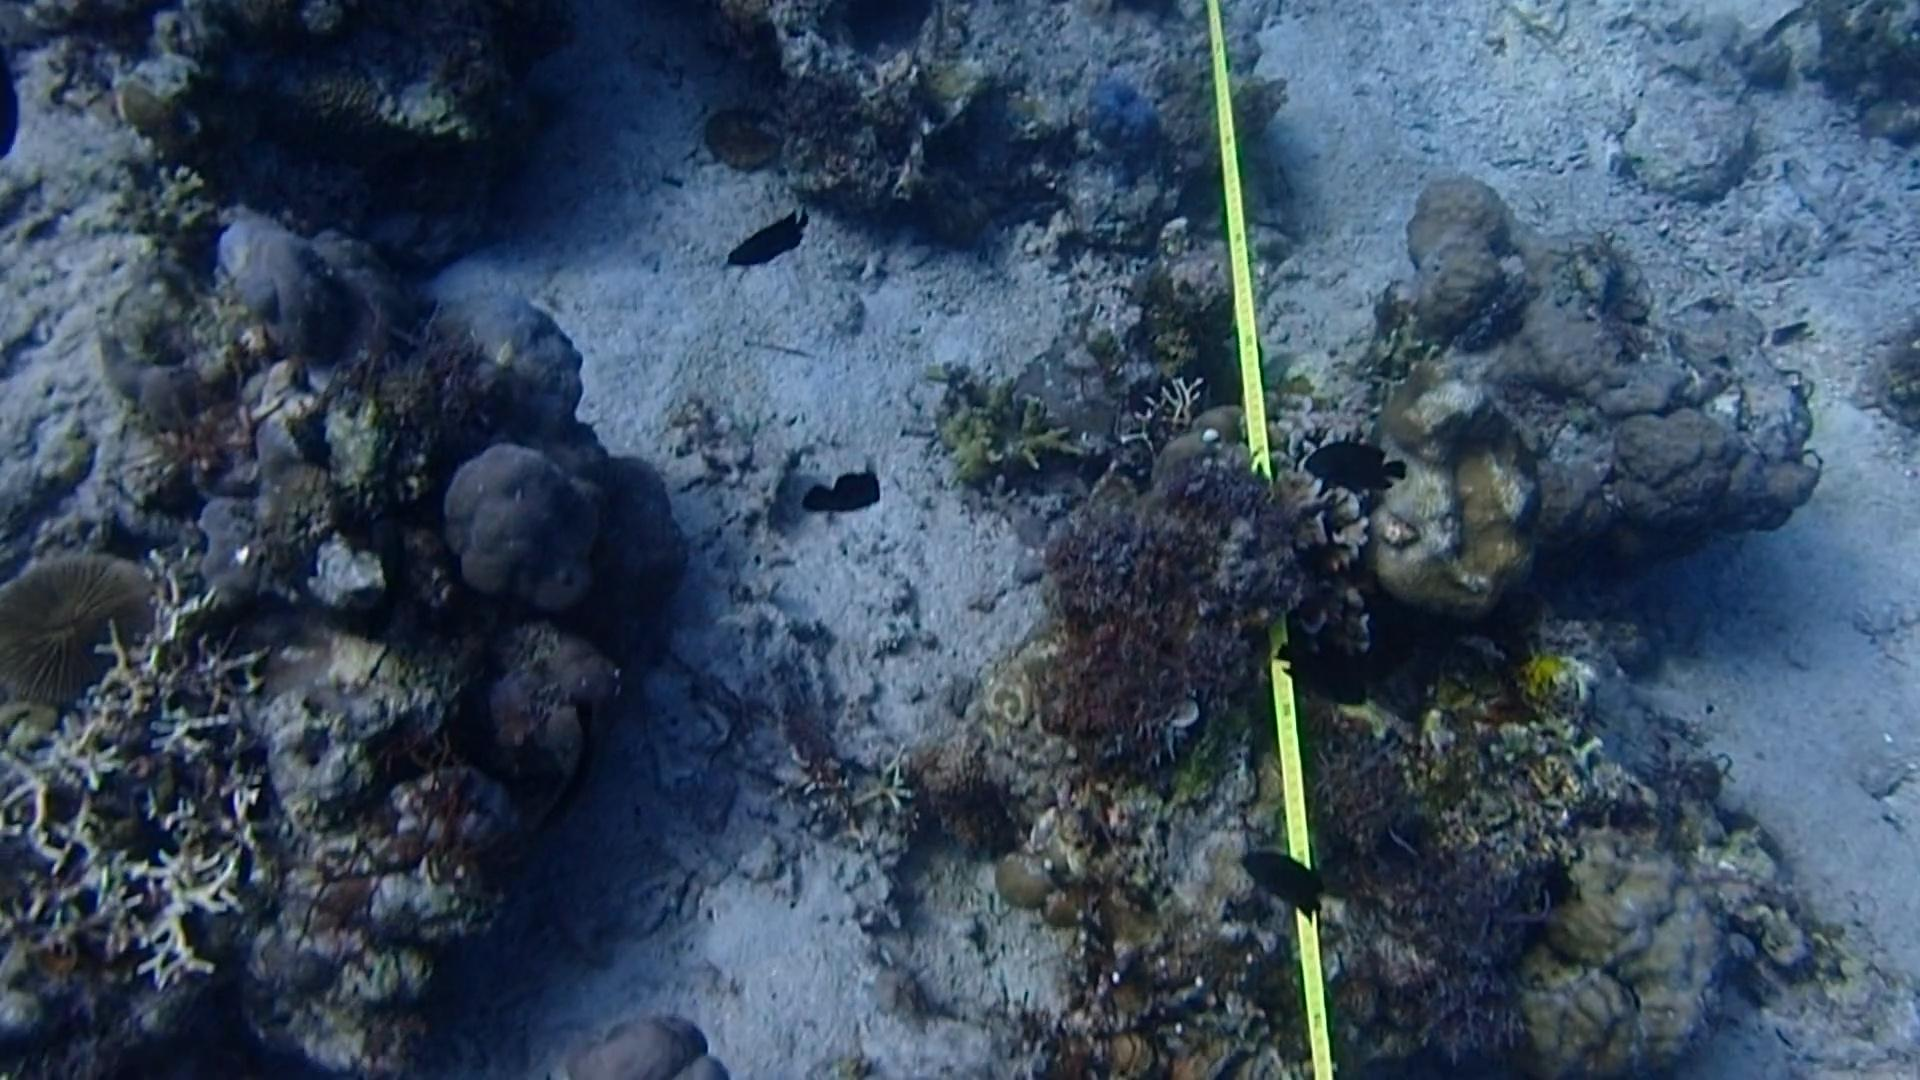Dark Fish: (521, 698, 611, 849), (1270, 638, 1379, 724), (351, 518, 427, 638), (1308, 430, 1410, 509), (1230, 837, 1333, 915), (720, 208, 814, 276), (795, 465, 885, 517), (0, 47, 29, 174)
Light Fish: (1750, 0, 1816, 53)
